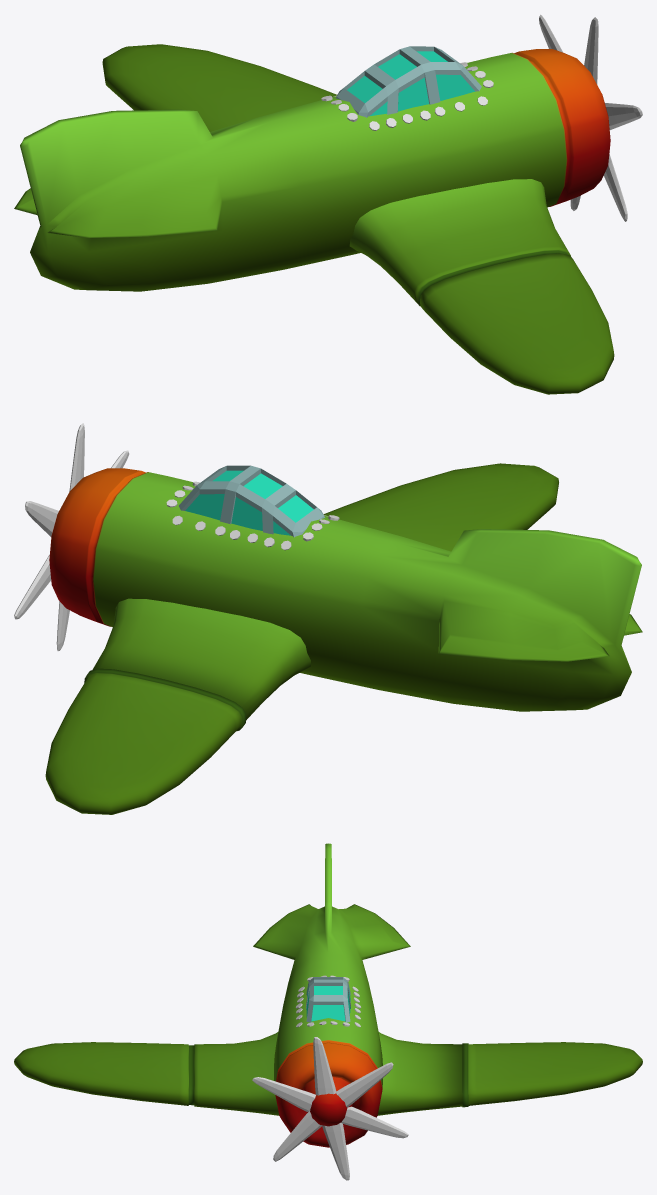
The model's file is самолет.fbx.
3 renders of one model, top to bottom at view 1: azimuth 30°, elevation 25°; view 2: azimuth 150°, elevation 25°; view 3: azimuth 270°, elevation 25°, orthographic. The views are drawn at different scales.
Visible parts, largest first — view 1: Cube, Cube.001, Cube.002, Cube.010, Cylinder.009; view 2: Cube, Cube.001, Cube.002, Cube.010, Cylinder.009; view 3: Cube.001, Cube, Cube.010, Cube.002, Cylinder.009.
Boxes of the visible parts, bbox=[...] form: Cube: bbox=[14, 49, 610, 291]; Cube.001: bbox=[102, 44, 614, 394]; Cube.002: bbox=[336, 46, 481, 117]; Cube.010: bbox=[539, 14, 642, 221]; Cylinder.009: bbox=[321, 62, 493, 130]; Cube: bbox=[49, 468, 642, 711]; Cube.001: bbox=[45, 463, 558, 814]; Cube.002: bbox=[179, 465, 324, 537]; Cube.010: bbox=[14, 423, 129, 650]; Cylinder.009: bbox=[166, 481, 339, 550]; Cube.001: bbox=[14, 1032, 642, 1115]; Cube: bbox=[253, 843, 410, 1147]; Cube.010: bbox=[252, 1037, 408, 1180]; Cube.002: bbox=[306, 977, 350, 1022]; Cylinder.009: bbox=[296, 975, 360, 1027].
Bounding box in the file's own units: 774 × 288 × 1056.
